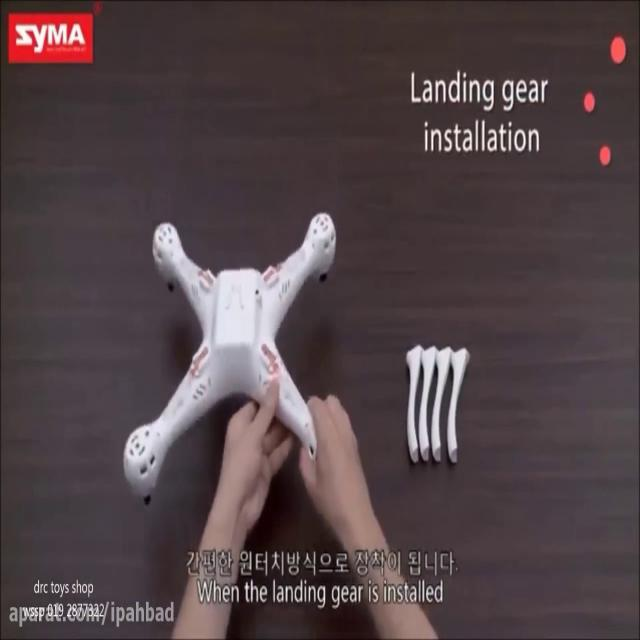drone: (120, 202, 344, 508)
